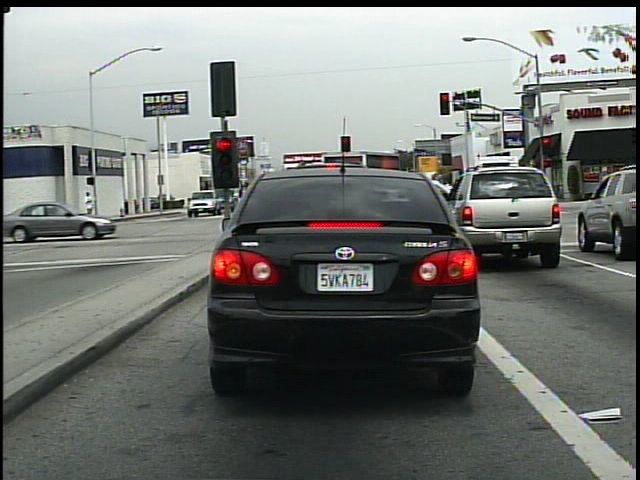person: (83, 190, 97, 216)
